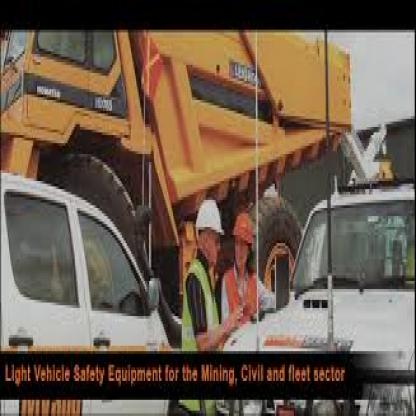person: (168, 170, 228, 413), (218, 200, 271, 356)
